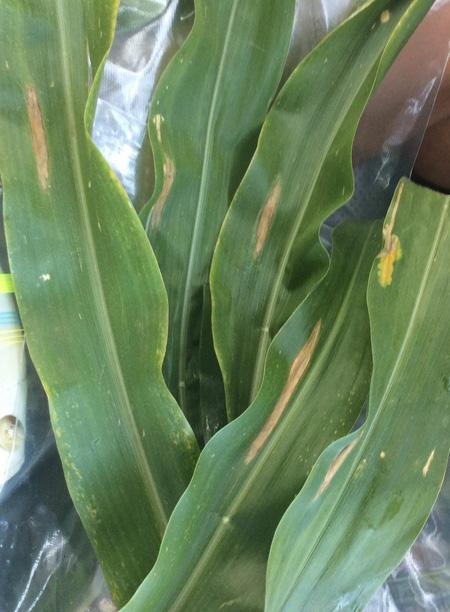Corn leaf blight: (5, 9, 186, 604), (194, 11, 426, 446), (158, 220, 375, 612), (266, 173, 450, 612), (134, 1, 287, 429)
